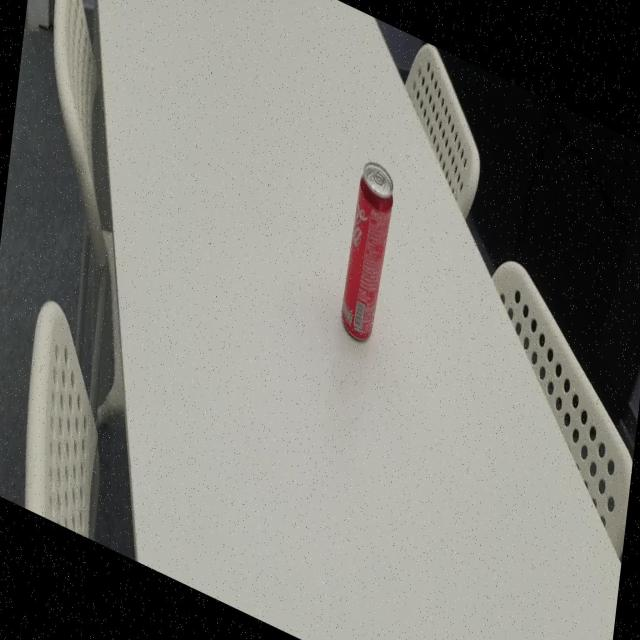coca-cola: (336, 151, 398, 357)
